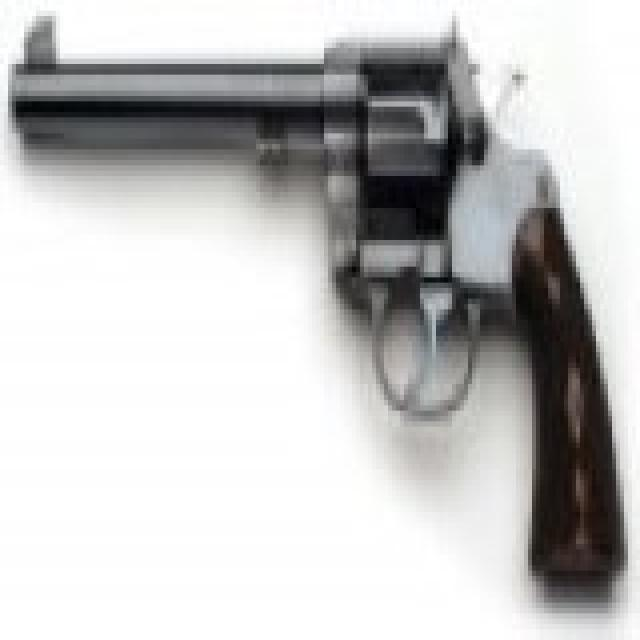Gun: (11, 8, 628, 586)
